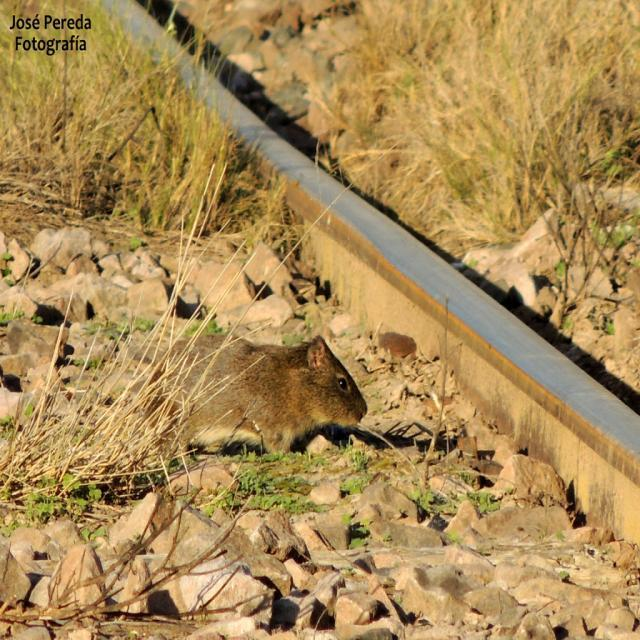rat: (138, 332, 370, 458)
